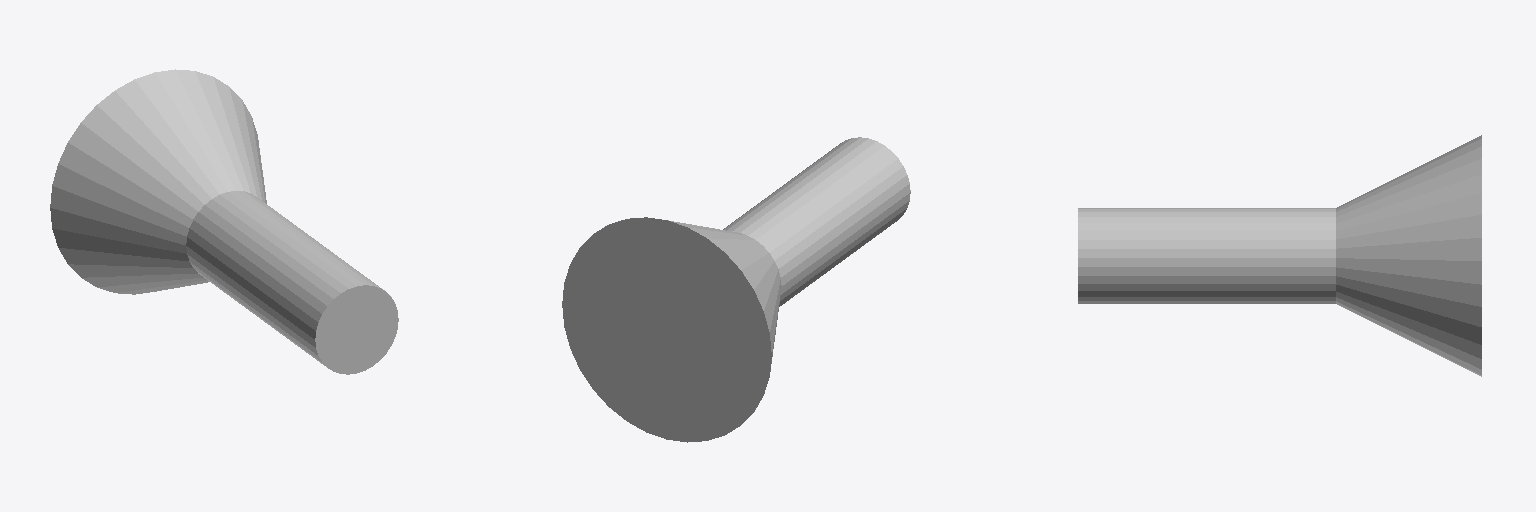
Rendered from lamp.obj.
3 renders of one model, left to right at view 1: azimuth 30°, elevation 25°; view 2: azimuth 150°, elevation 25°; view 3: azimuth 270°, elevation 25°, orthographic.
Size of the model in its own units: 1 by 1 by 1.67.